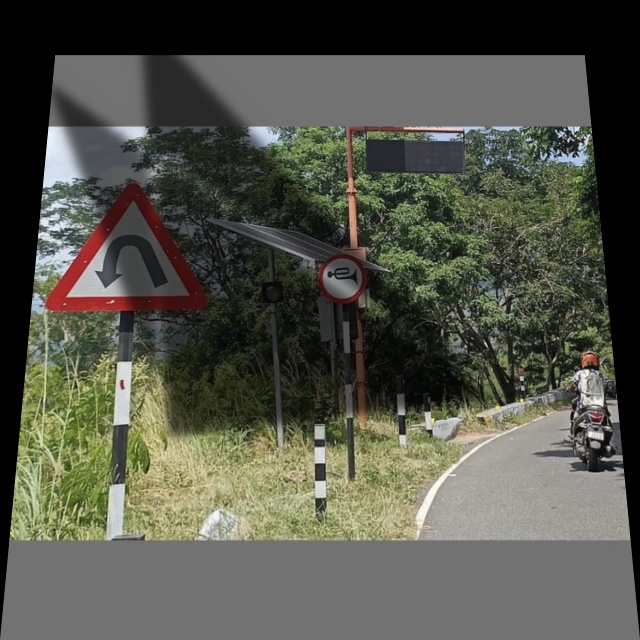Left_Hair_Pin_Bend: (43, 178, 219, 319)
